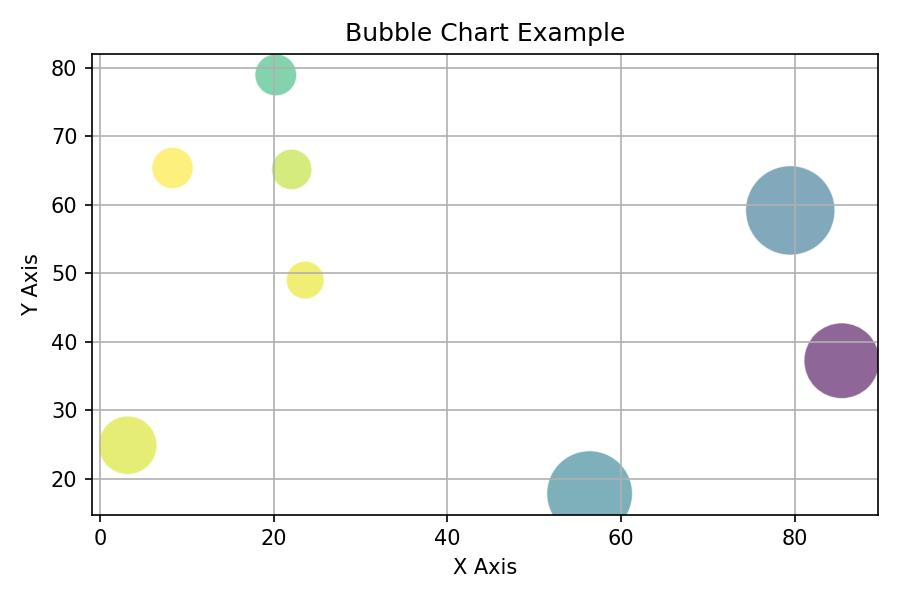axis: (79, 503, 884, 551), (49, 43, 100, 547)
circle: (745, 166, 838, 253), (804, 322, 878, 398), (549, 450, 631, 515), (101, 414, 158, 473), (154, 143, 195, 191), (252, 53, 299, 93), (283, 258, 328, 299), (273, 148, 312, 191)
